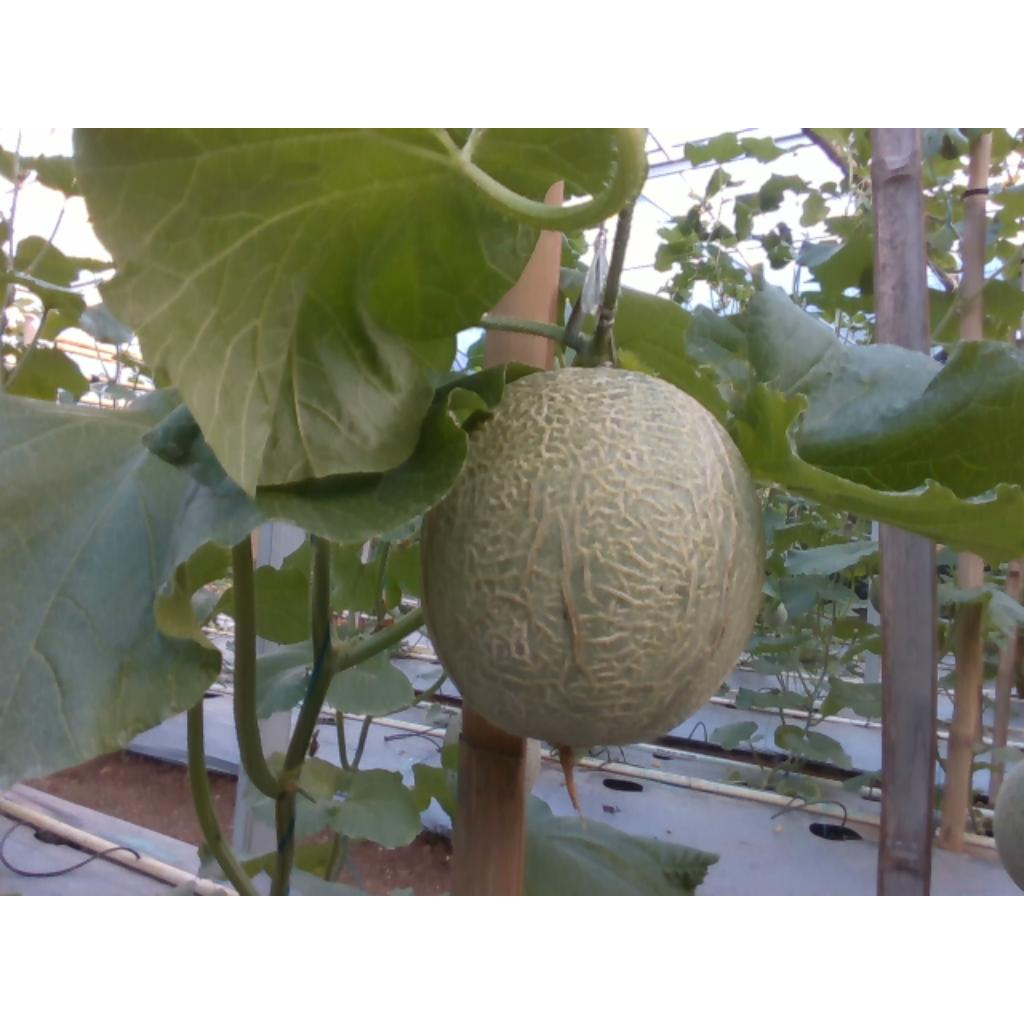melon: (422, 368, 765, 748)
